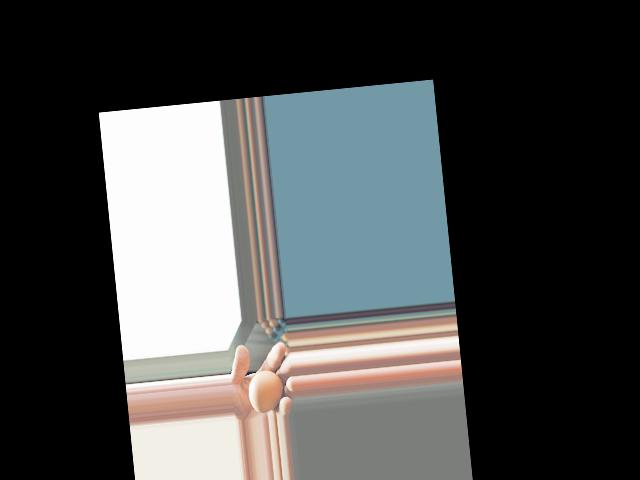egg: (247, 369, 286, 415)
